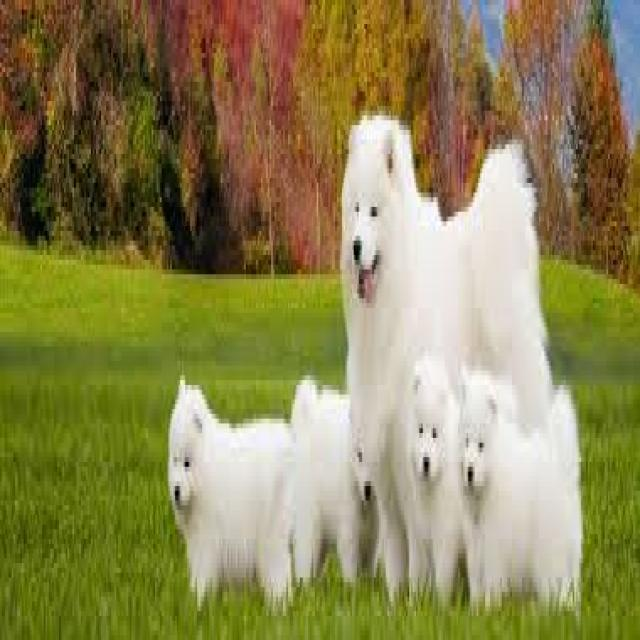dogs: (339, 108, 556, 608), (457, 361, 584, 604), (167, 373, 297, 610), (292, 373, 381, 589), (403, 352, 463, 604)
